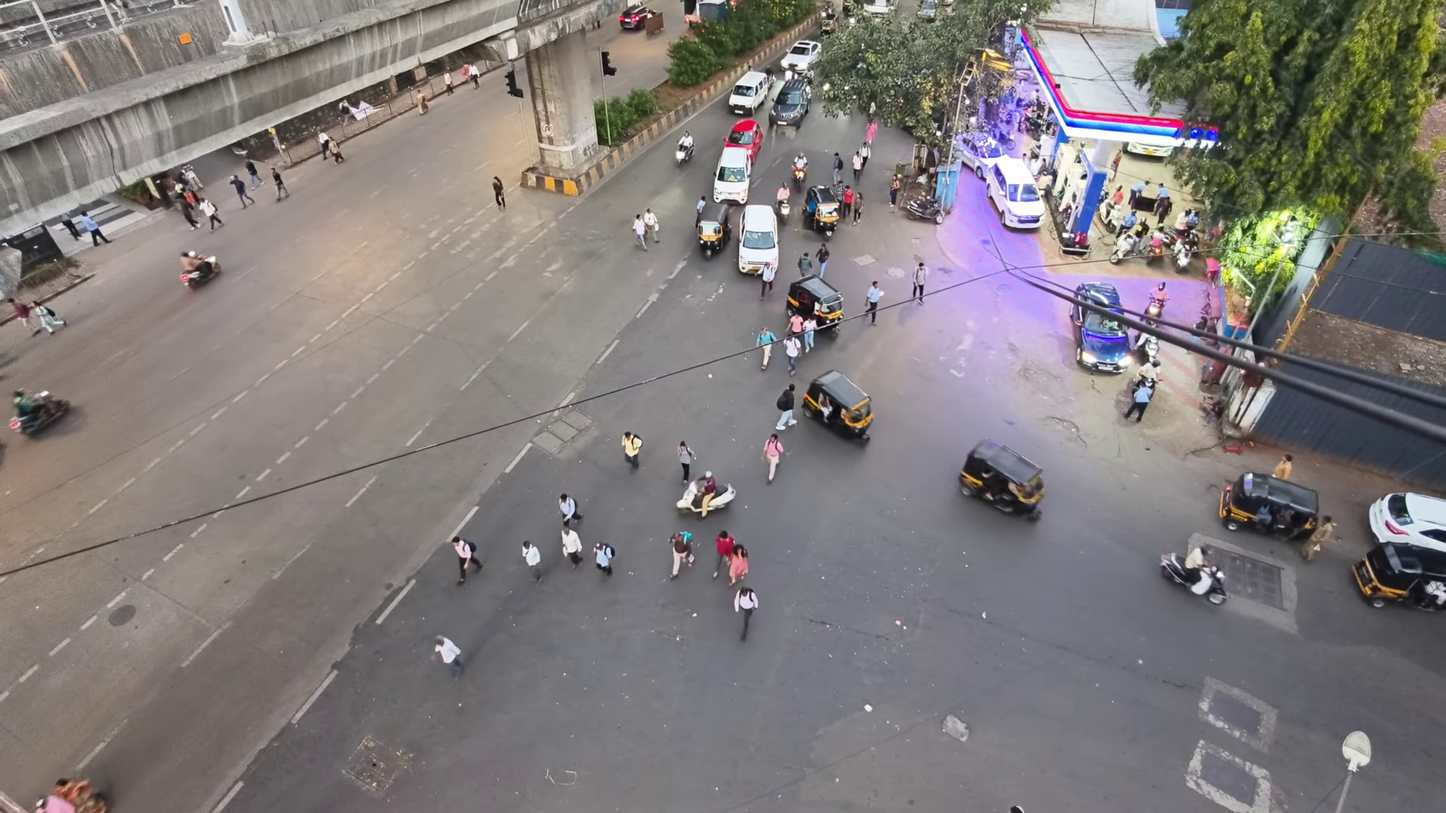walking: (1301, 516, 1334, 561), (451, 536, 482, 583), (734, 586, 758, 640), (433, 637, 464, 678), (30, 301, 66, 334), (8, 298, 39, 335), (670, 531, 694, 578), (712, 530, 735, 578), (1124, 386, 1154, 422), (762, 433, 784, 481), (80, 211, 110, 245), (775, 383, 796, 431), (561, 522, 581, 569), (230, 175, 255, 208), (756, 329, 776, 370), (522, 541, 541, 582), (729, 544, 748, 585), (199, 198, 223, 230), (621, 432, 642, 468), (678, 441, 696, 483), (866, 281, 883, 325), (783, 335, 801, 376), (593, 543, 615, 576), (559, 494, 582, 525), (1127, 180, 1150, 209), (911, 262, 927, 303), (178, 198, 198, 230), (642, 208, 660, 242), (760, 262, 776, 299), (271, 168, 289, 200), (61, 212, 81, 240), (802, 314, 816, 352), (815, 243, 830, 278), (182, 165, 203, 189), (632, 215, 646, 250), (1273, 455, 1292, 480), (840, 187, 854, 219), (492, 176, 505, 209), (889, 174, 901, 208), (318, 131, 331, 160), (414, 89, 429, 114), (465, 64, 480, 89), (858, 141, 871, 169), (852, 151, 863, 183), (833, 152, 844, 184), (787, 312, 802, 335), (798, 252, 812, 276), (695, 196, 706, 226), (852, 191, 862, 224), (865, 120, 878, 145), (331, 141, 344, 163), (444, 70, 453, 94)
